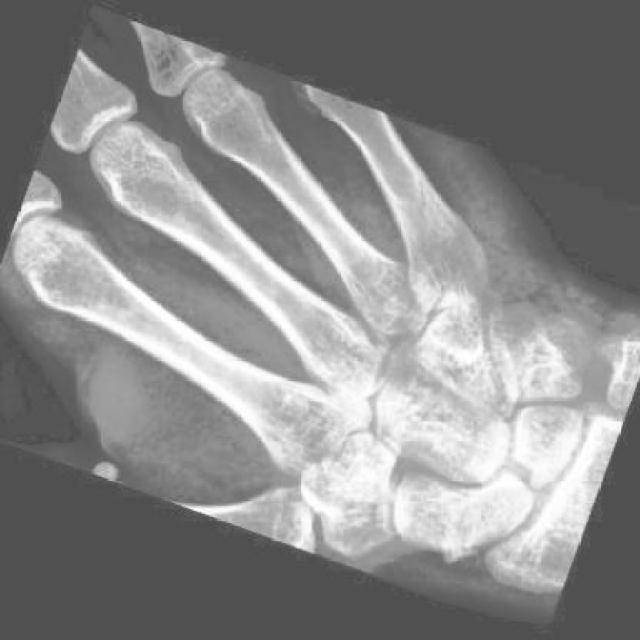Fracture: (422, 479, 501, 568)
